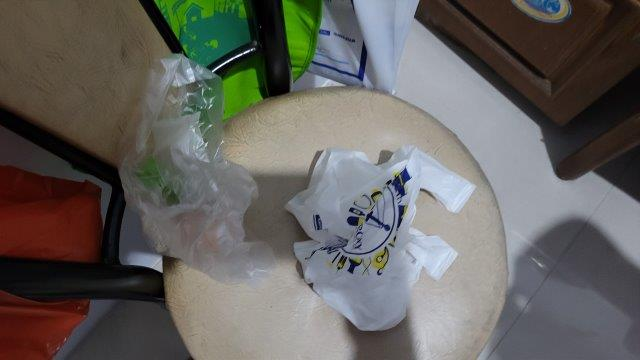plastik: (118, 54, 272, 287), (283, 149, 477, 331)
